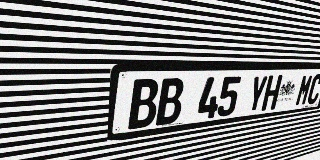4: (196, 77, 223, 120)
5: (216, 76, 241, 117)
B: (128, 79, 159, 130), (156, 78, 185, 126)
C: (306, 74, 320, 105)
H: (261, 75, 283, 111)
M: (294, 74, 314, 106)
Y: (245, 75, 268, 113)
